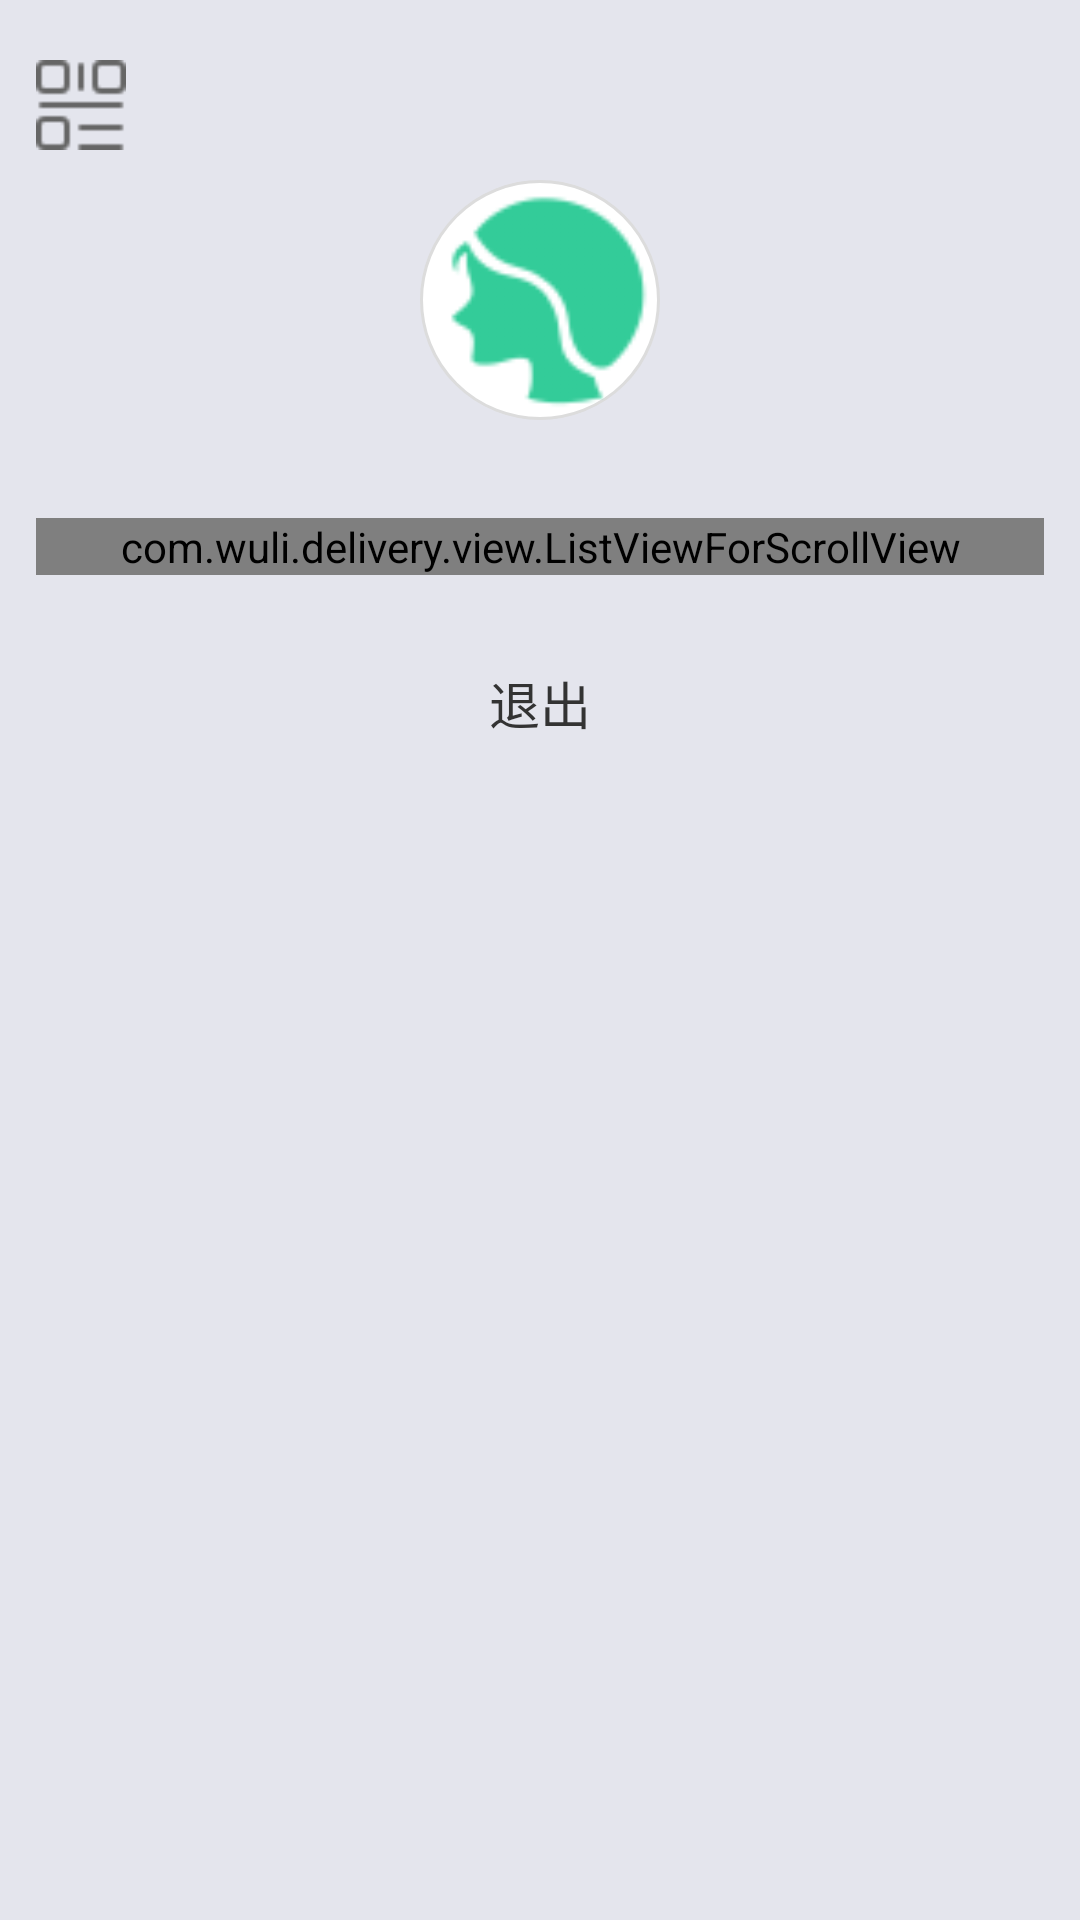

Screen size 1080 × 1920. Icon name, then its center in pixels as (x=x, y=y):
portrait: (x=540, y=300)
